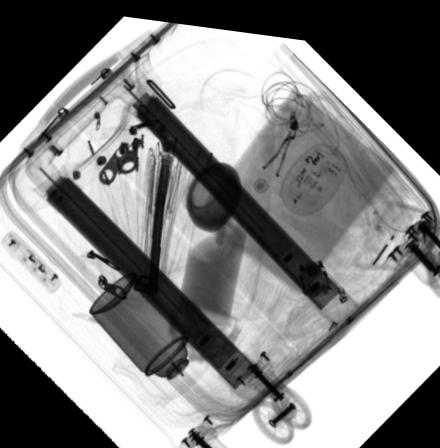Sprayer: (89, 269, 210, 396)
